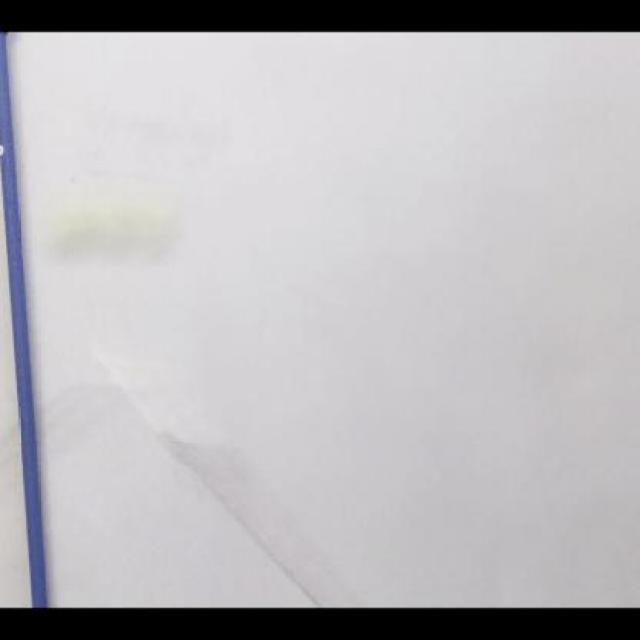baseball: (47, 196, 178, 266)
